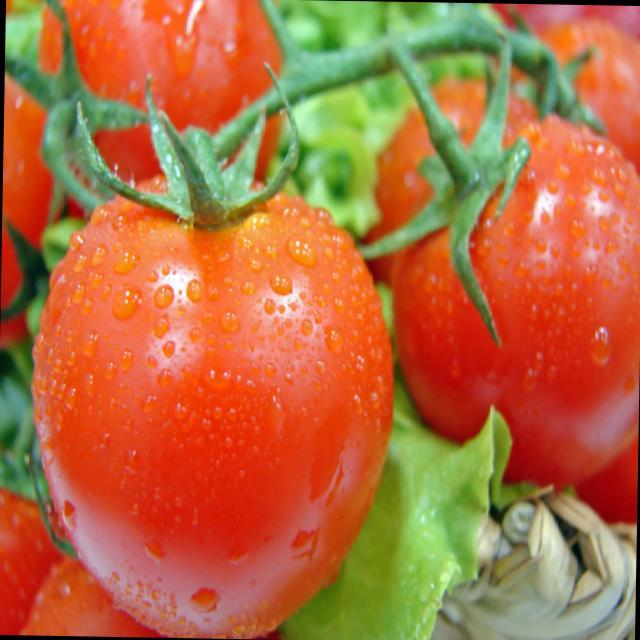TOMATO: (27, 154, 384, 640), (380, 66, 640, 489), (36, 0, 300, 172), (491, 3, 640, 171), (0, 66, 70, 352), (24, 541, 218, 638), (0, 474, 49, 635)
